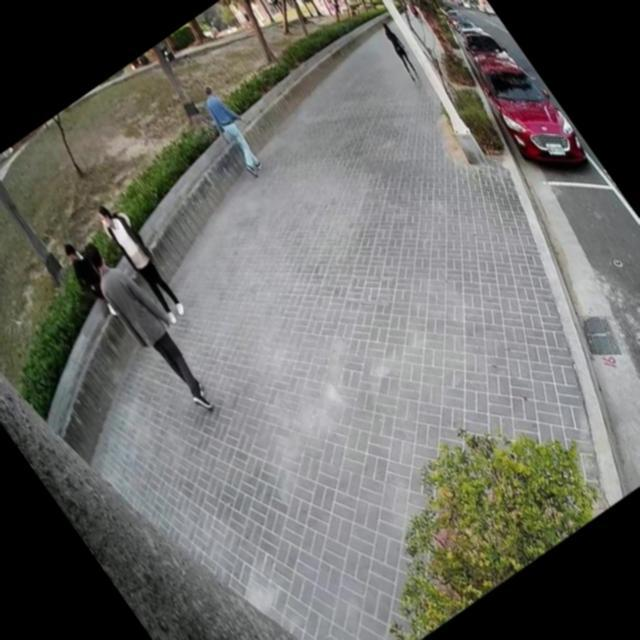person: (68, 226, 224, 424), (85, 191, 196, 330), (184, 72, 276, 182), (50, 234, 127, 326), (368, 11, 427, 86)
